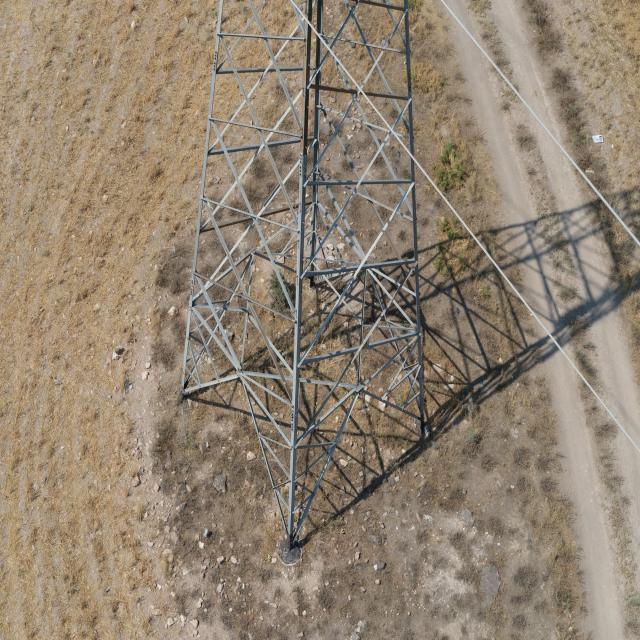direk: (173, 14, 438, 556)
